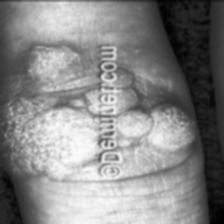Toxin: (139, 104, 195, 148)
